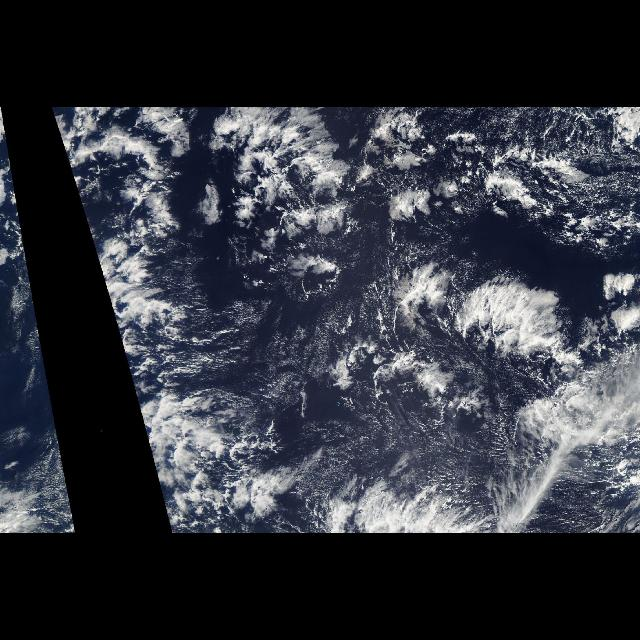Fish: (498, 384, 610, 534)
Sugar: (345, 374, 627, 524)
